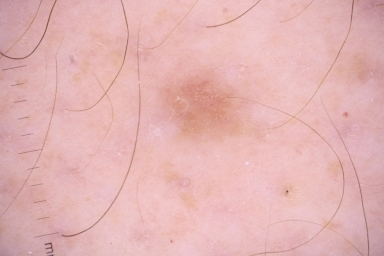nevus: (166, 81, 250, 135)
